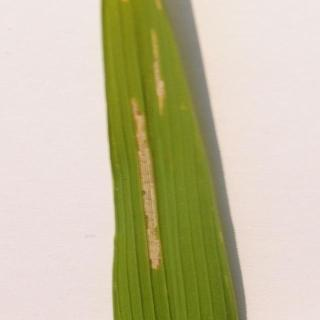Hawar-Daun: (117, 90, 177, 319), (131, 2, 190, 136)
